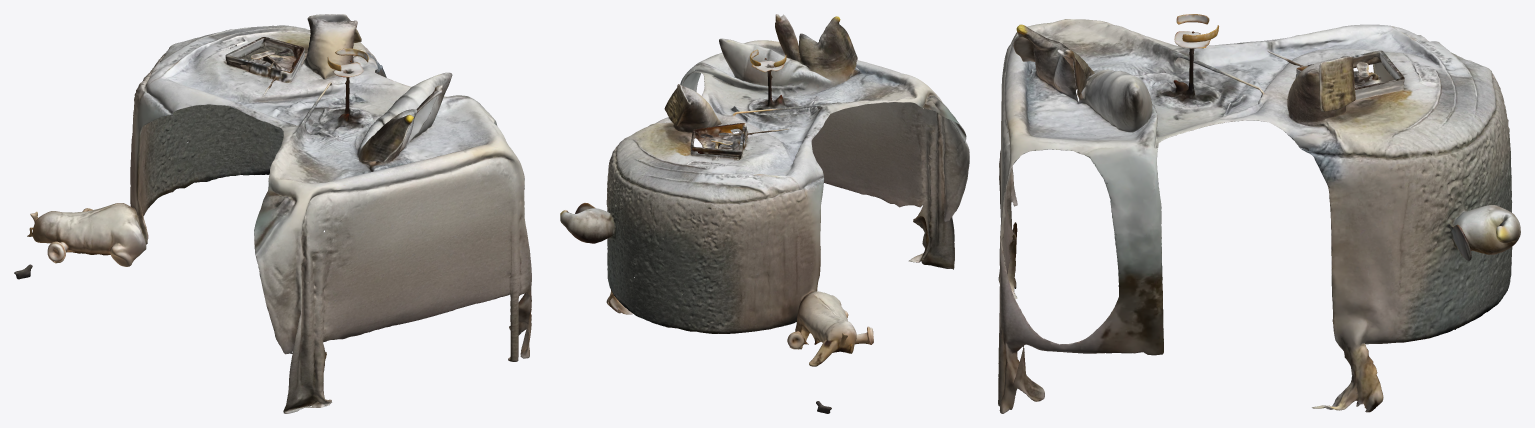
File: petter.glb
The picture shows the model from 3 angles, left to right: view 1: azimuth 30°, elevation 25°; view 2: azimuth 150°, elevation 25°; view 3: azimuth 270°, elevation 25°; orthographic projection. The views are drawn at different scales.
Visible parts, largest first — view 1: geometry_0; view 2: geometry_0; view 3: geometry_0.
Part boxes in pixels (bbox=[...]): geometry_0: bbox=[14, 14, 531, 413]; geometry_0: bbox=[560, 14, 969, 413]; geometry_0: bbox=[998, 14, 1520, 413].
Bounding box in the file's own units: 0.9005 × 0.6922 × 0.9998.
Materials: 1 (1 with a texture image).
